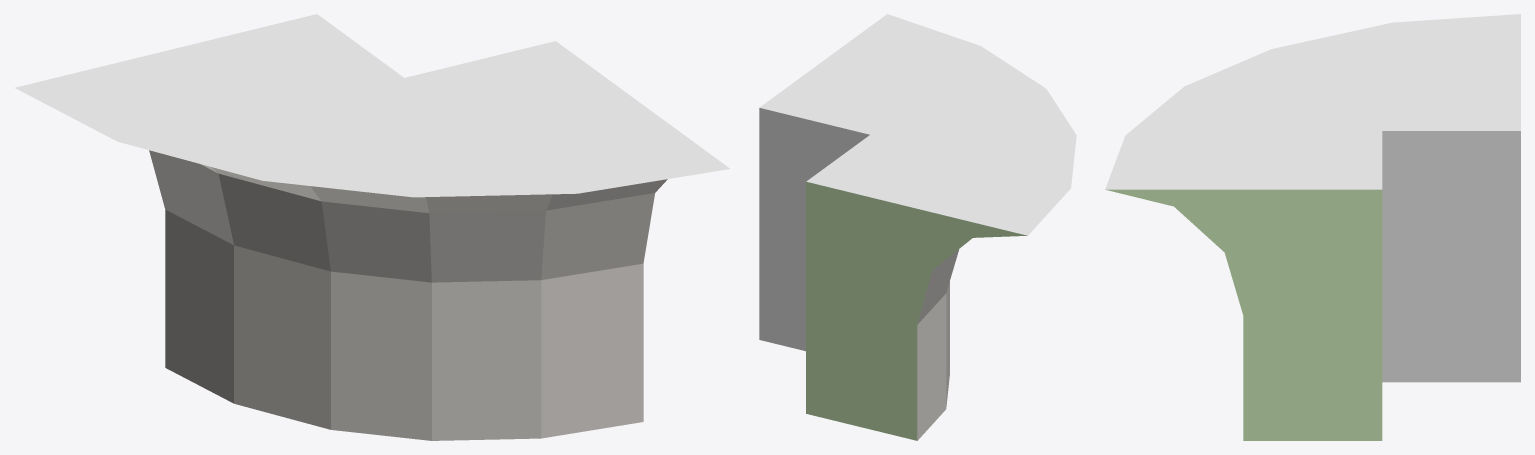
The model's file is Wall_Curve_Outer_3x3_Top.glb.
The picture shows the model from 3 angles, left to right: view 1: azimuth 30°, elevation 25°; view 2: azimuth 150°, elevation 25°; view 3: azimuth 270°, elevation 25°; orthographic projection. The views are drawn at different scales.
Parts seen in each view (by area): view 1: Wall_Curve_Outer_3x3_Top; view 2: Wall_Curve_Outer_3x3_Top; view 3: Wall_Curve_Outer_3x3_Top.
Part boxes in pixels (bbox=[...]): Wall_Curve_Outer_3x3_Top: bbox=[15, 14, 729, 440]; Wall_Curve_Outer_3x3_Top: bbox=[759, 14, 1076, 440]; Wall_Curve_Outer_3x3_Top: bbox=[1105, 14, 1520, 440].
Size of the model in its own units: 300 by 200 by 300.
